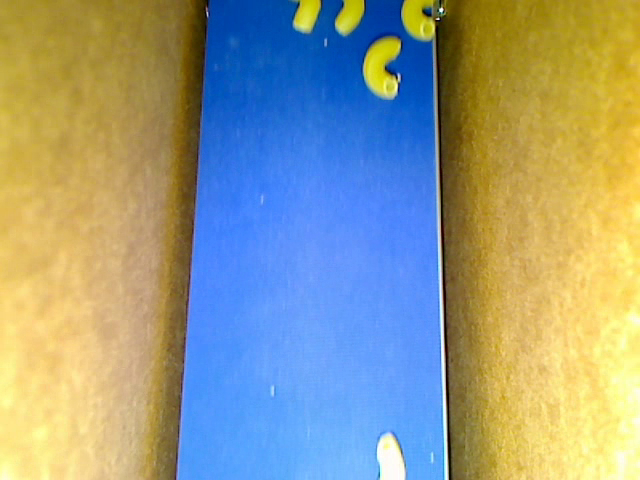elbow: (362, 35, 402, 100), (375, 431, 406, 479), (400, 1, 433, 43), (333, 1, 364, 39), (289, 1, 321, 35)
